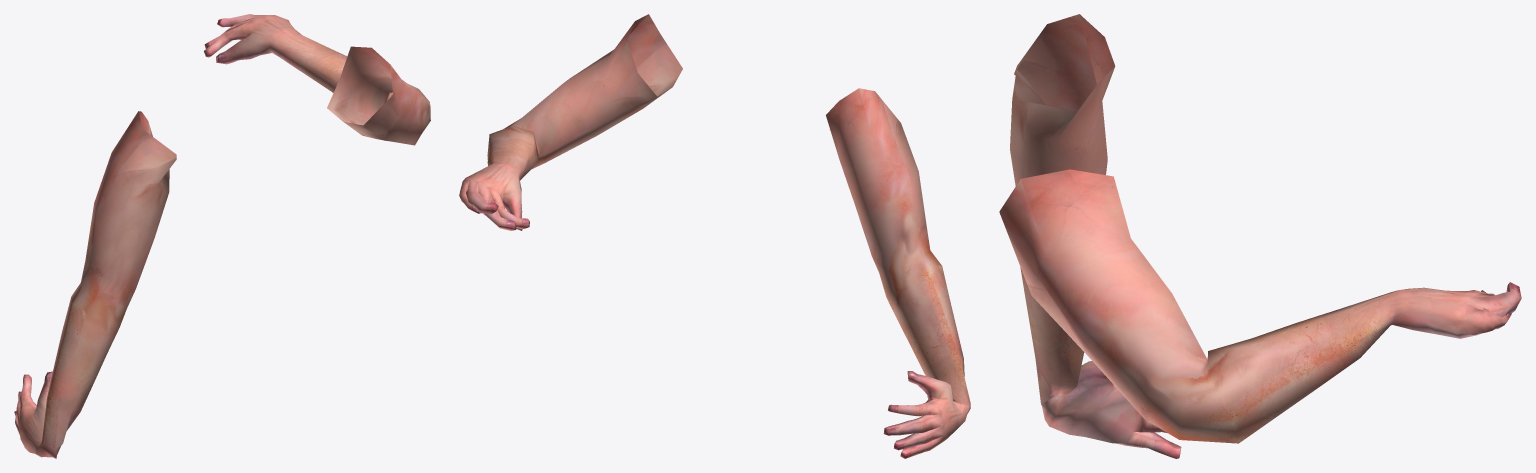
The model's file is grip.glb.
The picture shows the model from 3 angles, left to right: view 1: azimuth 30°, elevation 25°; view 2: azimuth 150°, elevation 25°; view 3: azimuth 270°, elevation 25°; orthographic projection. The views are drawn at different scales.
Parts seen in each view (by area): view 1: PlayerArms_grip; view 2: PlayerArms_grip; view 3: PlayerArms_grip.
Boxes of the visible parts, x1,y1,x2,y2 form: PlayerArms_grip: (14,14,430,458); PlayerArms_grip: (459,14,970,458); PlayerArms_grip: (999,14,1521,458).
Size of the model in its own units: 0.9619 by 0.7254 by 0.6658.
1 material, 1 textured.
